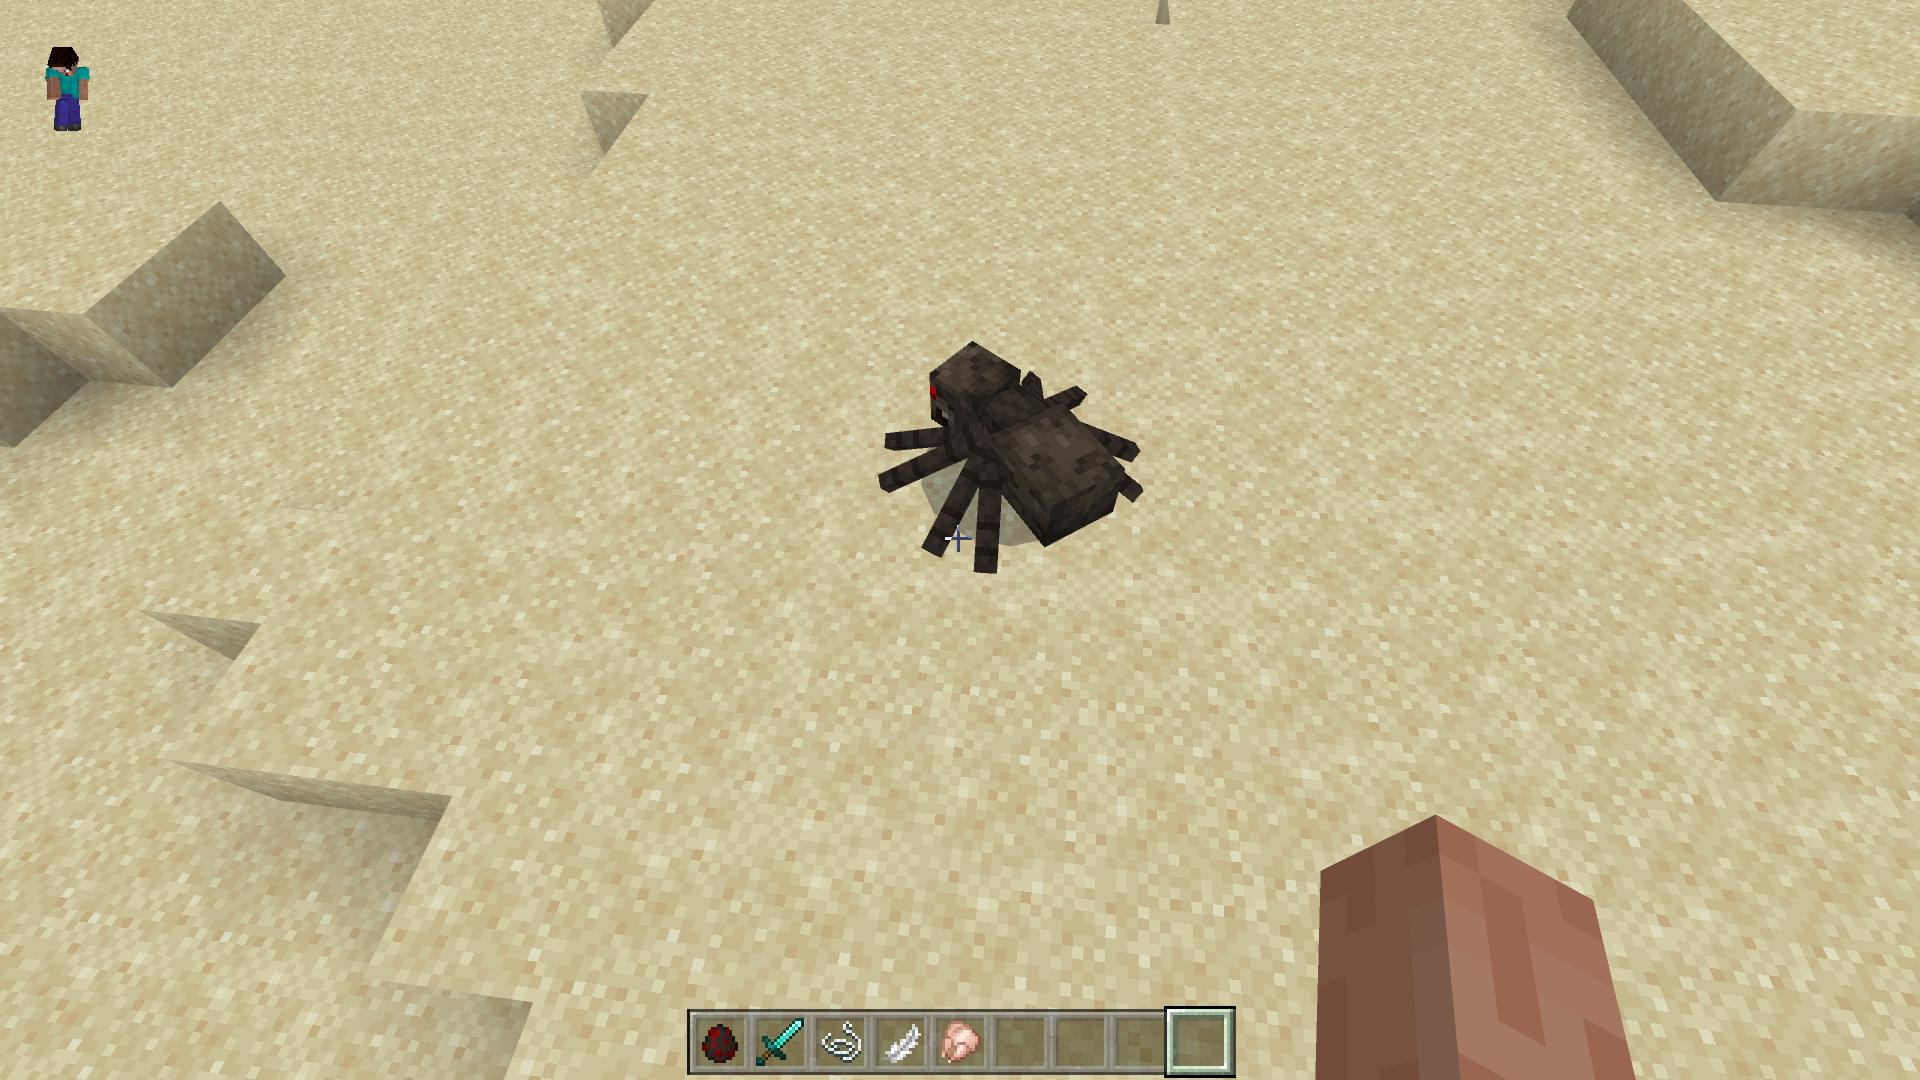spider: (876, 340, 1149, 575)
